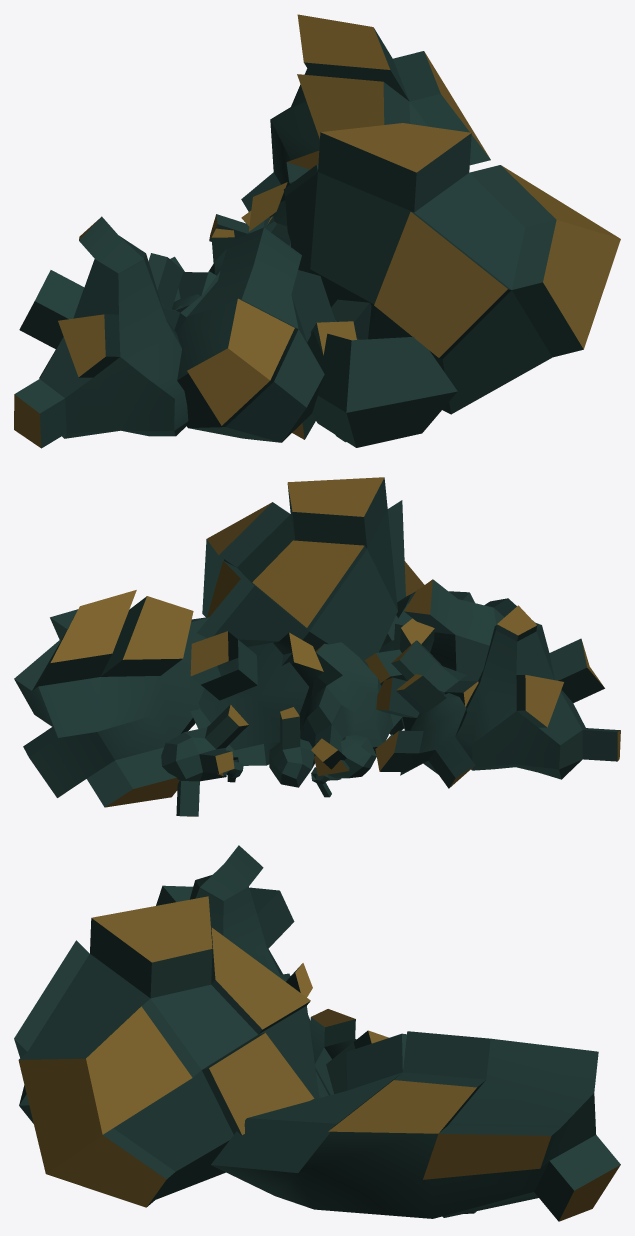
File: Boulder Corner 1.fbx
3 views of the same model, one above another, from view 1: azimuth 30°, elevation 25°; view 2: azimuth 150°, elevation 25°; view 3: azimuth 270°, elevation 25° (orthographic). The views are drawn at different scales.
Visible parts, largest first — view 1: rock.009; view 2: rock.009; view 3: rock.009.
Boxes of the visible parts, x1=… form: rock.009: x1=14, y1=14, x2=620, y2=448; rock.009: x1=14, y1=477, x2=620, y2=816; rock.009: x1=14, y1=845, x2=620, y2=1221.
Bounding box in the file's own units: 652 × 324 × 636.
